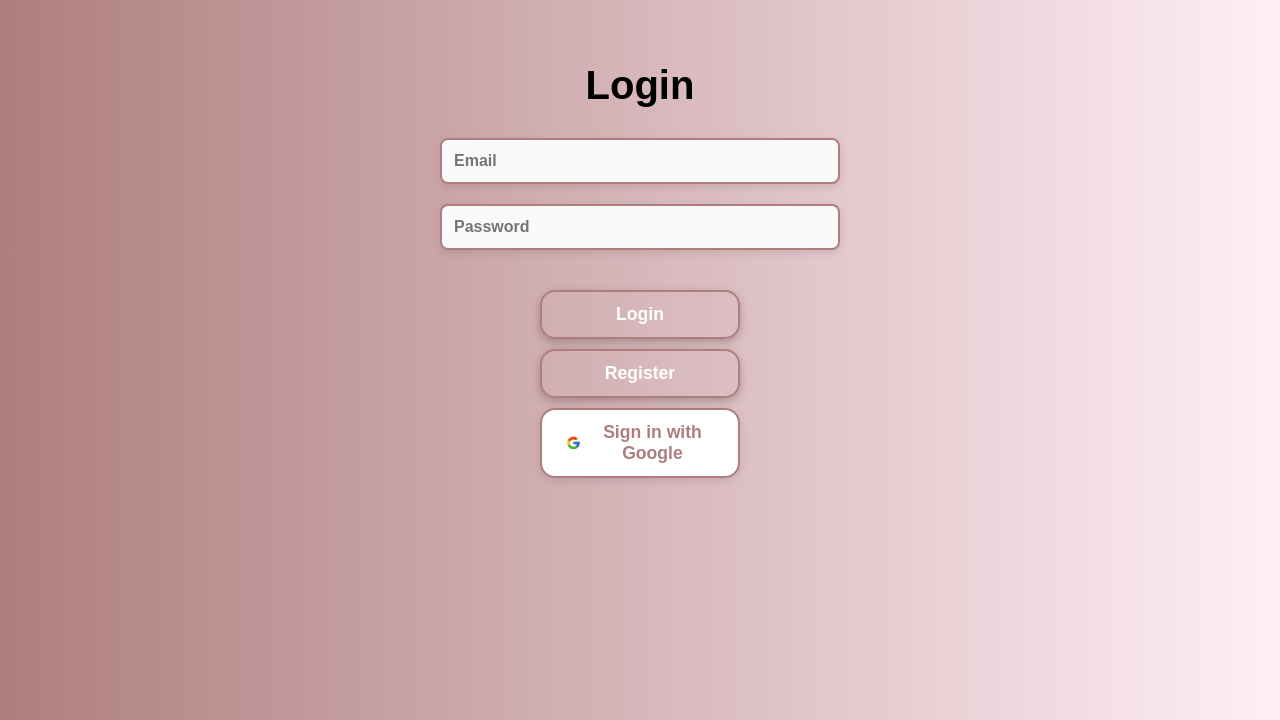
Scenario: Login Component › displays error message when Google sign-in fails
Click the button "Sign in with Google" at x=640, y=442, box [540,408,740,478]
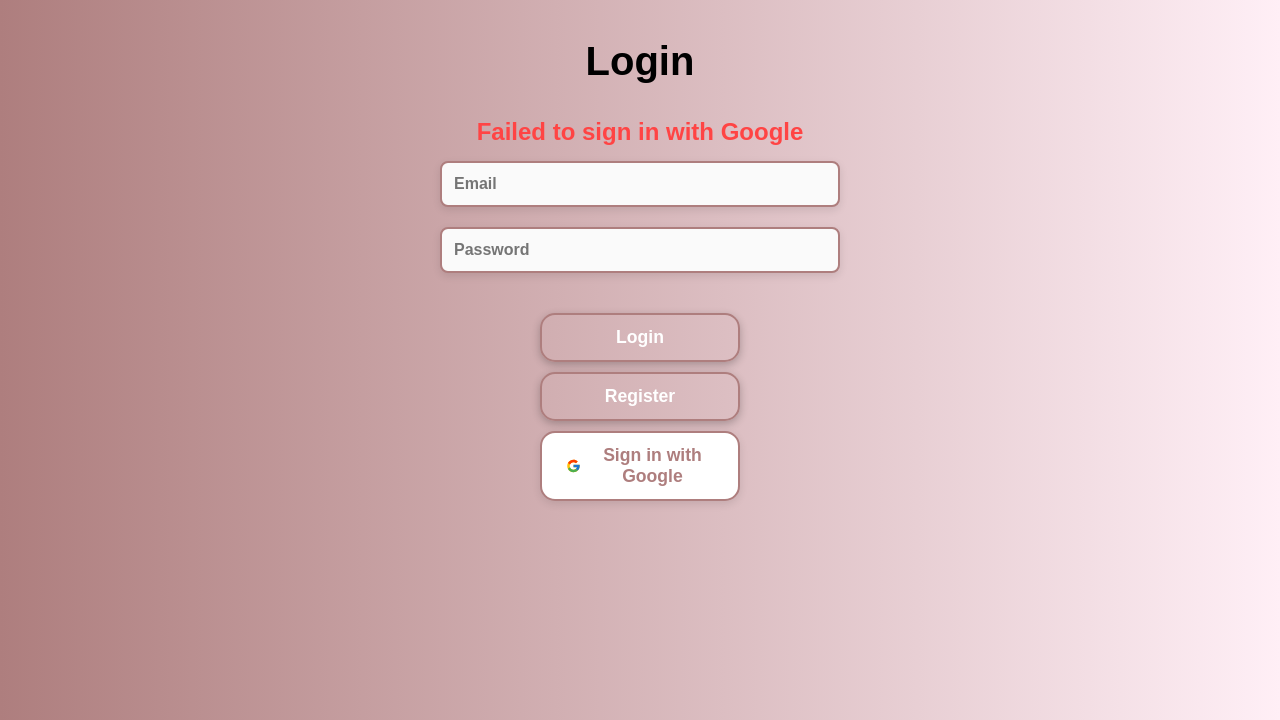
Expected: the text "Failed to sign in with Google" is shown, [477,118,803,146]
